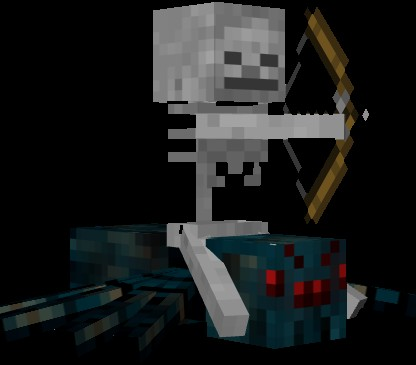skeleton: (136, 2, 335, 170)
